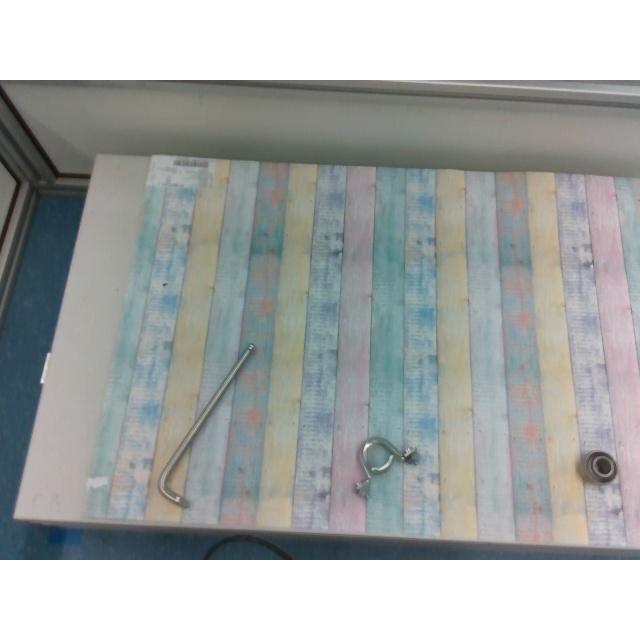AllenKey: (157, 343, 257, 505)
Bearing2: (578, 450, 618, 488)
Housing: (356, 436, 416, 494)
